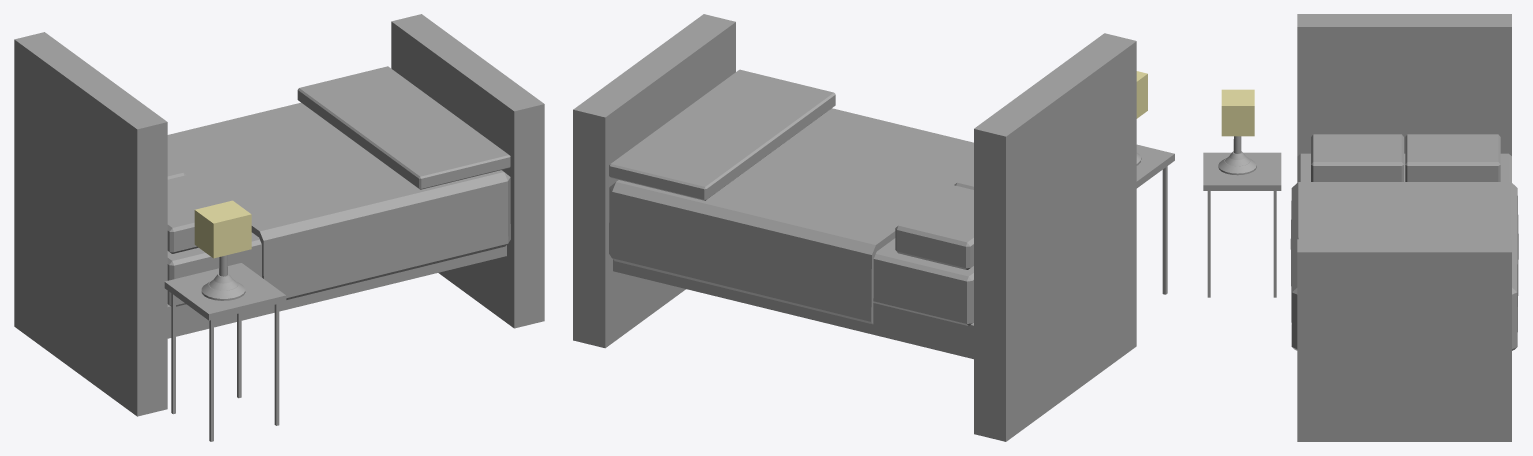
File: Bedroom.fbx
3 views of the same model, side by side, from view 1: azimuth 30°, elevation 25°; view 2: azimuth 150°, elevation 25°; view 3: azimuth 270°, elevation 25° (orthographic). The views are drawn at different scales.
Parts seen in each view (by area): view 1: pCube4, polySurface2, pCube5, pCube7, pCube8, pCube6, pCylinder2, pCube3, polySurface1; view 2: pCube4, polySurface2, pCube5, pCube7, pCube6, polySurface1, pCube2, pCube8, pCylinder2; view 3: pCube5, pCube4, polySurface2, pCube2, pCube3, pCube8, pCylinder2, polySurface1, pCube7.
Boxes of the visible parts, bbox=[...] form: pCube4: bbox=[14, 32, 167, 416]; polySurface2: bbox=[167, 102, 510, 299]; pCube5: bbox=[391, 14, 544, 328]; pCube7: bbox=[297, 66, 510, 189]; pCube8: bbox=[164, 263, 286, 441]; pCube6: bbox=[167, 245, 506, 338]; pCylinder2: bbox=[194, 200, 251, 300]; pCube3: bbox=[167, 175, 223, 253]; polySurface1: bbox=[167, 232, 261, 306]; pCube4: bbox=[974, 33, 1136, 441]; polySurface2: bbox=[609, 108, 973, 324]; pCube5: bbox=[573, 14, 735, 348]; pCube7: bbox=[609, 69, 835, 200]; pCube6: bbox=[613, 259, 973, 359]; polySurface1: bbox=[873, 238, 973, 325]; pCube2: bbox=[895, 185, 973, 269]; pCube8: bbox=[1136, 144, 1174, 294]; pCylinder2: bbox=[1136, 71, 1147, 165]; pCube5: bbox=[1297, 239, 1511, 441]; pCube4: bbox=[1297, 14, 1511, 156]; polySurface2: bbox=[1290, 182, 1518, 350]; pCube2: bbox=[1405, 134, 1500, 181]; pCube3: bbox=[1311, 134, 1403, 181]; pCube8: bbox=[1203, 152, 1281, 297]; pCylinder2: bbox=[1218, 89, 1256, 175]; polySurface1: bbox=[1297, 153, 1511, 182]; pCube7: bbox=[1297, 237, 1511, 239].
Size of the model in its own units: 1.91 by 1.31 by 1.47.
